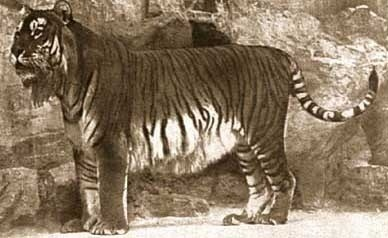tigre: (9, 1, 372, 237)
